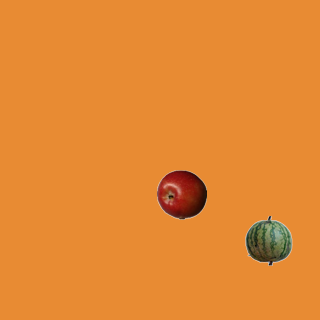Apple Braeburn: (156, 169, 206, 219)
Watermelon: (243, 215, 293, 265)
